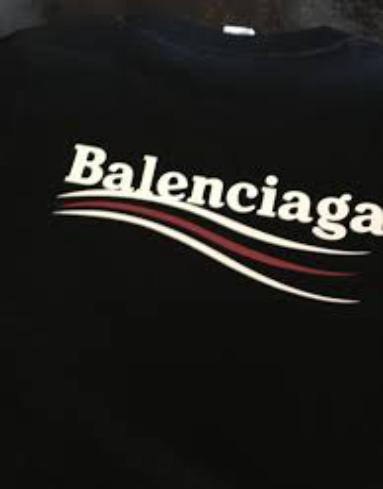BALENCIAGA: (53, 139, 383, 302)
